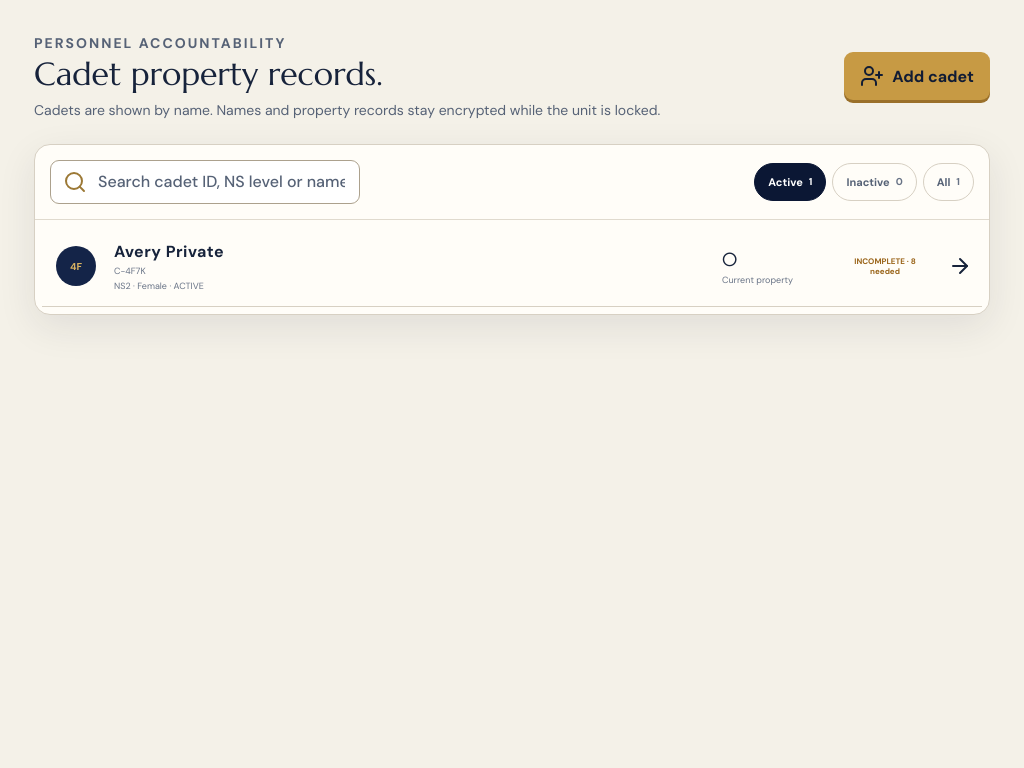
Test: Message this cadet (mw-kmgi38.5) › a cadet without a channel shows This cadet has no phone yet and offers no send
The image size is (1024, 768).
What coordinates should you click on to do the following:
click the button "C-4F7K"
I would click on:
 (76, 266)
Its box is x1=42 y1=227 x2=982 y2=307.
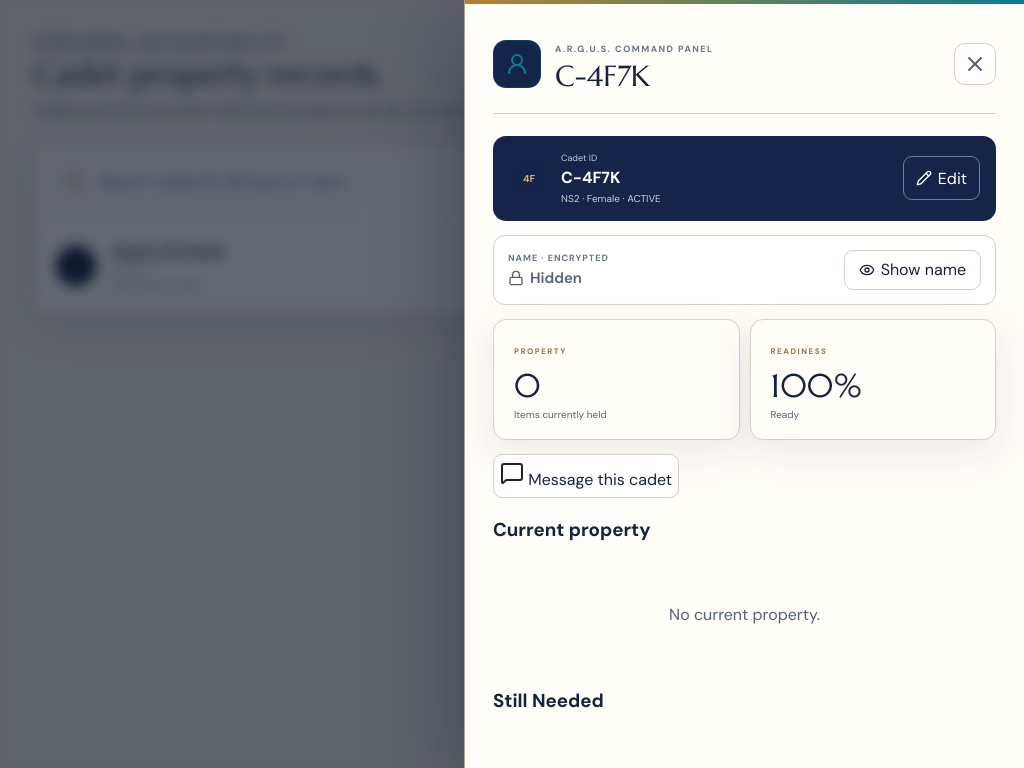
What coordinates should you click on to do the following:
click the button "Message this cadet"
I would click on:
 (586, 476)
Its box is x1=493 y1=454 x2=679 y2=498.
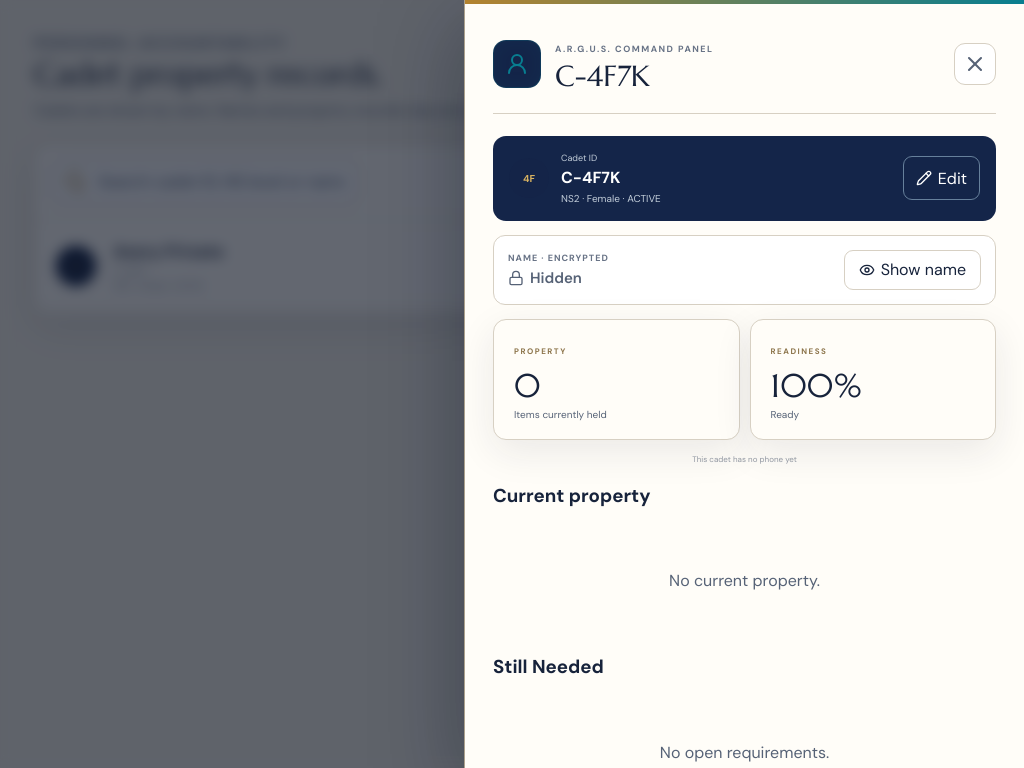
Now the text "This cadet has no phone yet" is shown, box x1=692 y1=454 x2=797 y2=464
